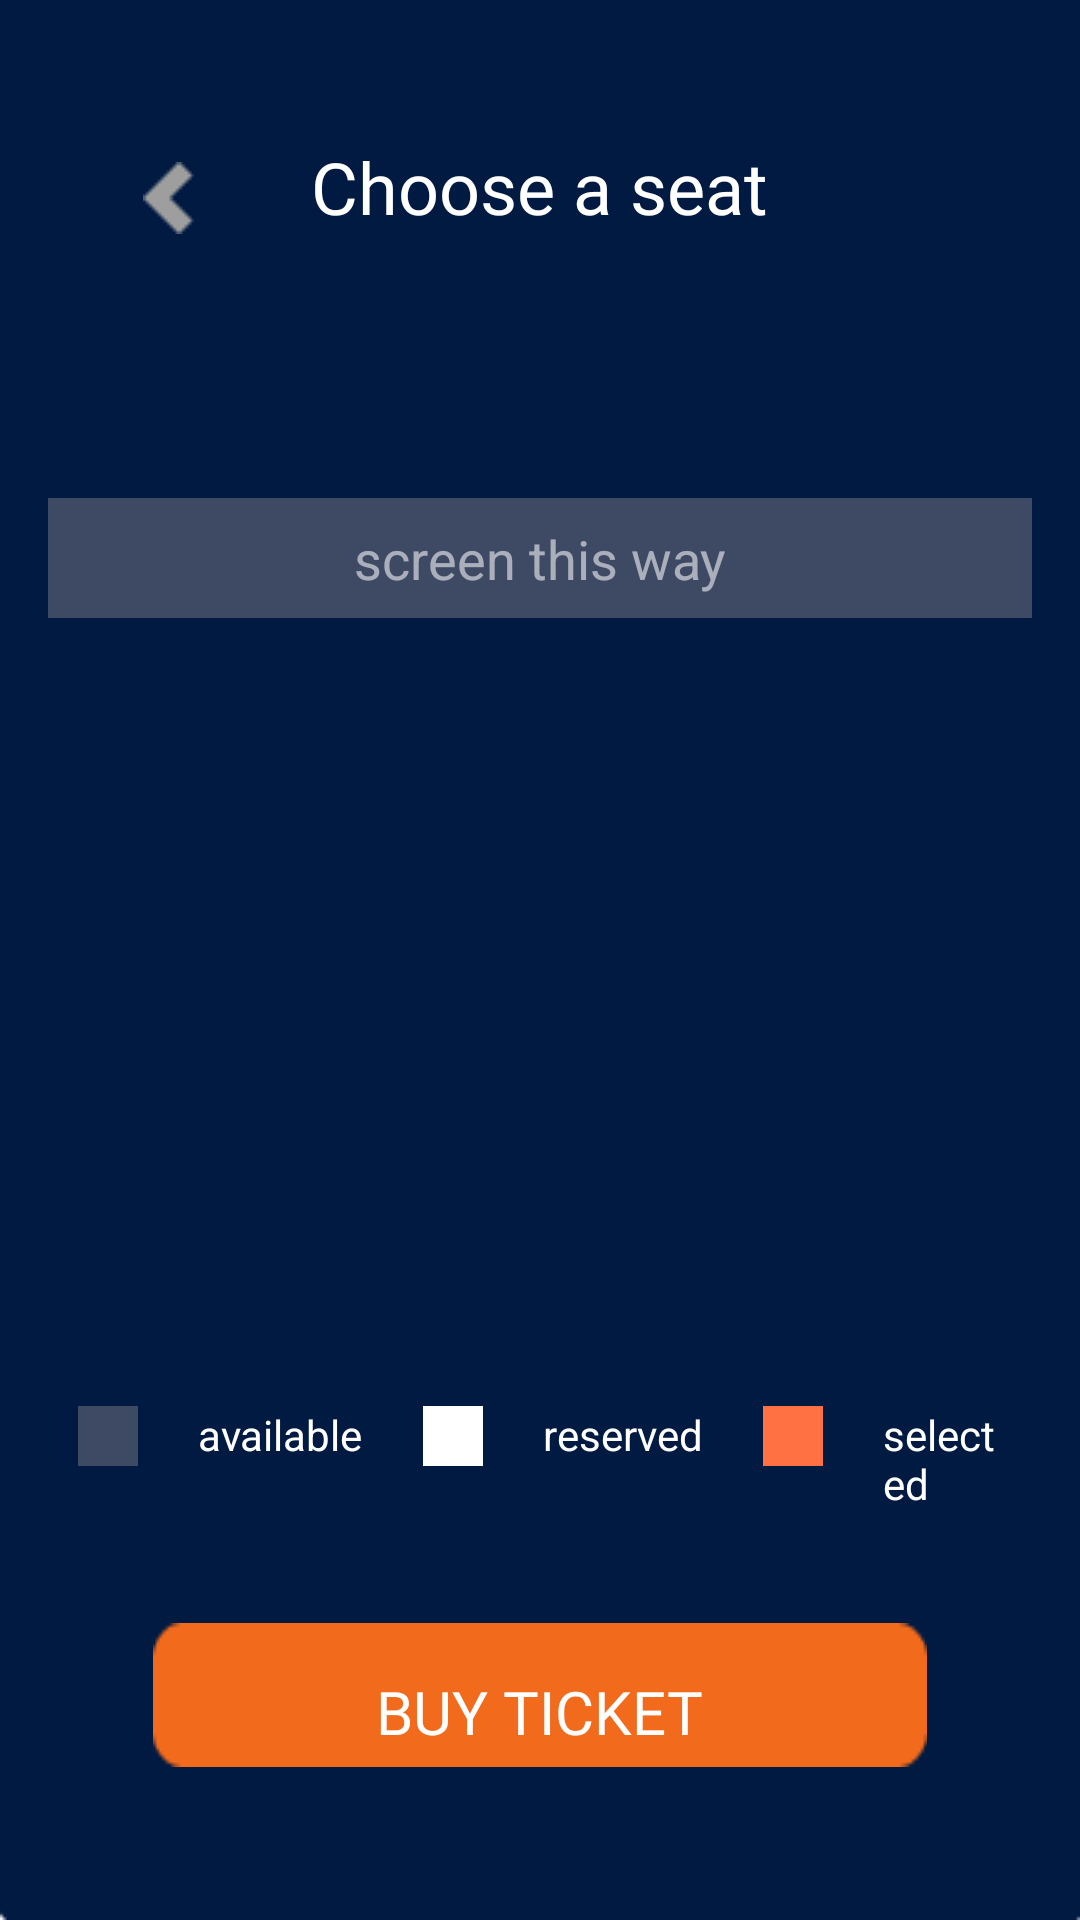

Screen size 1080w x 1920h. Icon name, then its box in pixels as (x1, y1, x2, y2):
back: (143, 162, 194, 234)
